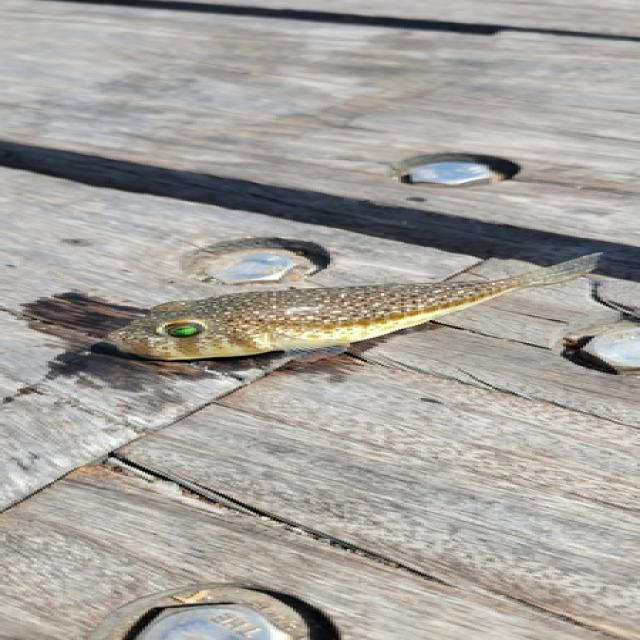Balik: (106, 254, 600, 359)
